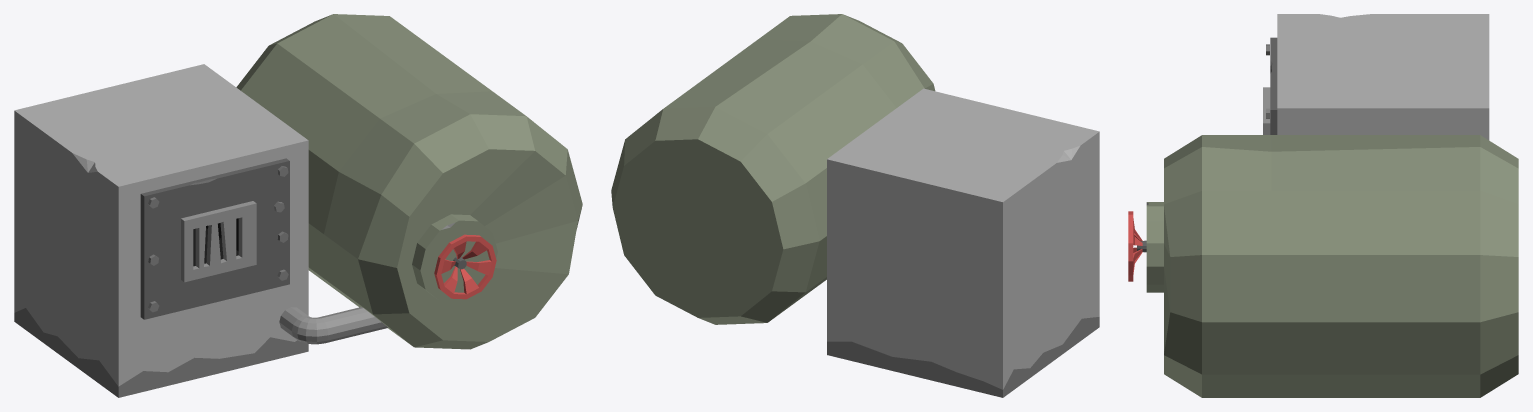
The model's file is Wh_Boiler.fbx.
The picture shows the model from 3 angles, left to right: view 1: azimuth 30°, elevation 25°; view 2: azimuth 150°, elevation 25°; view 3: azimuth 270°, elevation 25°; orthographic projection. The views are drawn at different scales.
Visible parts, largest first — view 1: Cylinder.033, Cube.1042, Cylinder.050; view 2: Cylinder.033; view 3: Cylinder.033, Cylinder.050.
Boxes of the visible parts, <box> form: Cylinder.033: <box>14,14,582,397</box>; Cube.1042: <box>181,201,256,282</box>; Cylinder.050: <box>434,234,496,299</box>; Cylinder.033: <box>611,14,1099,397</box>; Cylinder.033: <box>1146,14,1518,397</box>; Cylinder.050: <box>1128,211,1146,281</box>.
Size of the model in its own units: 380 by 200 by 296.
